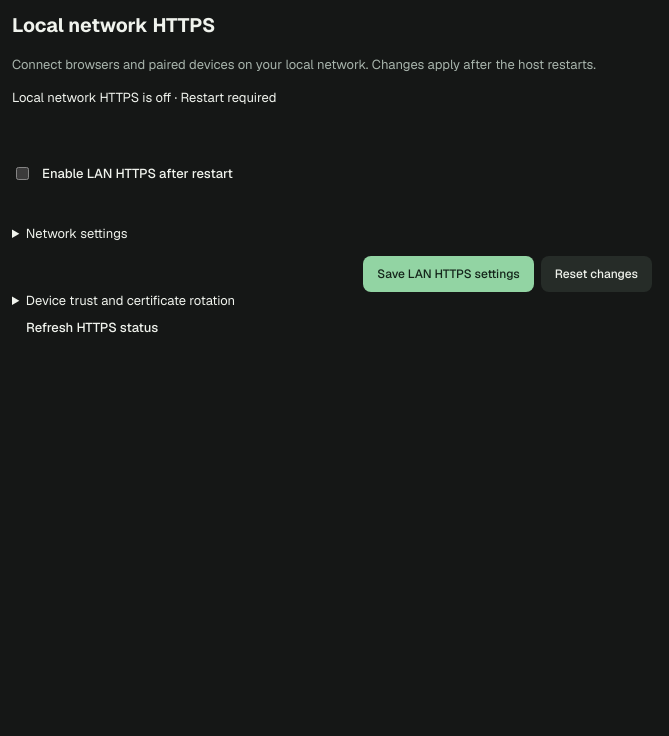
Test: saves only reviewed settings and acknowledges success while retaining explicit restart guidance
Click the checkbox labelled "Enable LAN HTTPS after restart" at (22, 173), box [16,167,29,180]
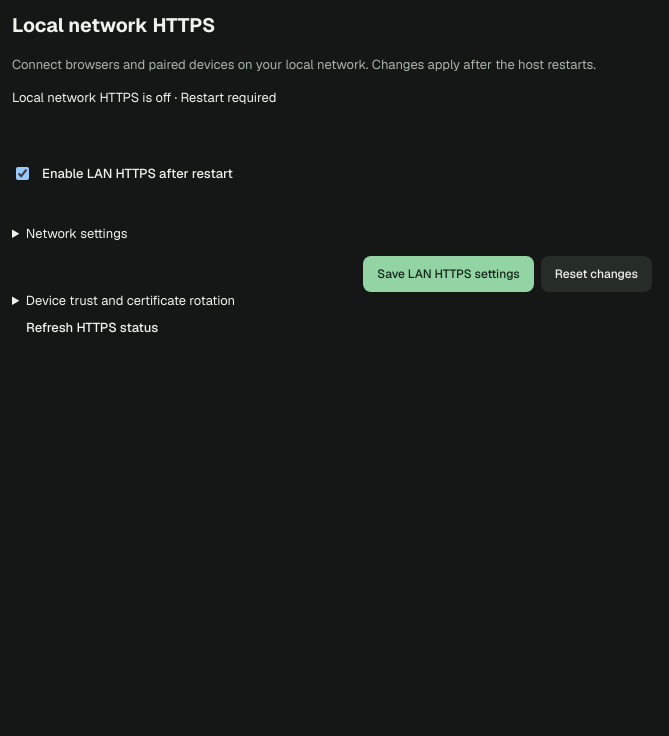
Click the heading "Network settings" at (77, 234), box [26,225,128,242]
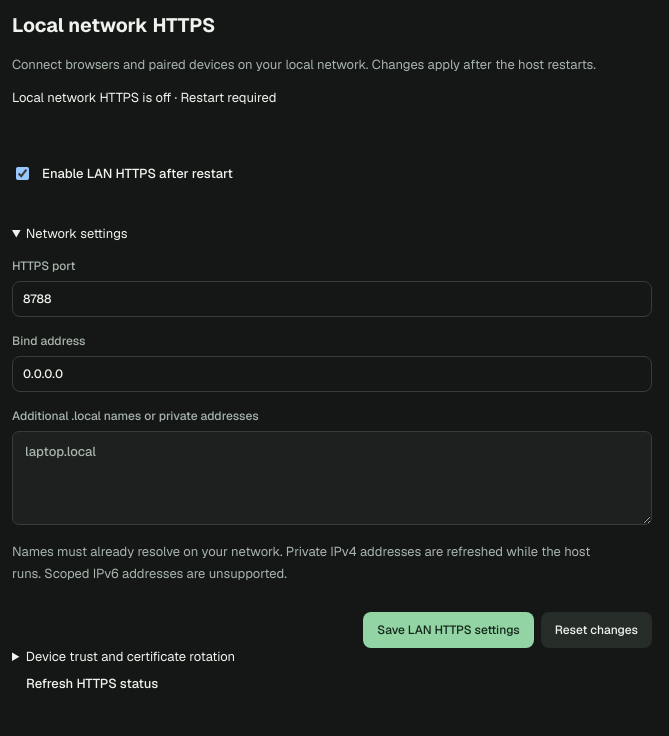
Type "workstation.local  192.168.64.11" into the text box labelled "Additional .local names or private addresses" at (332, 478), box [12,431,652,525]
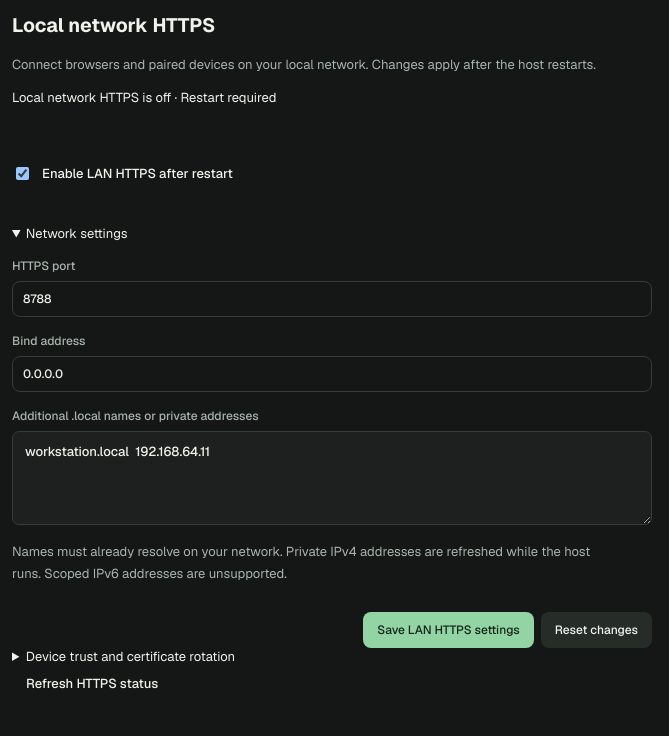
Click the button "Save LAN HTTPS settings" at (449, 630), box [363,612,534,648]
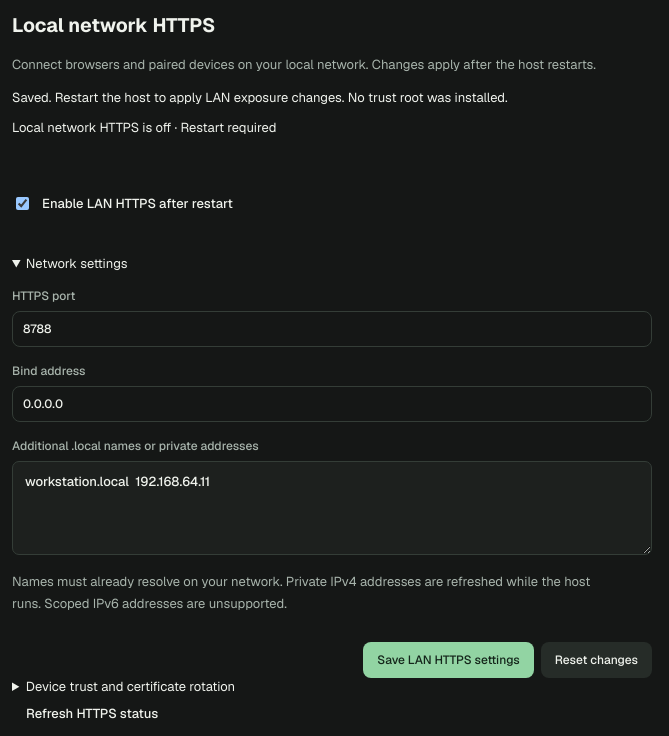
Check: the text "Saved. Restart the host to apply LAN exposure changes. No trust root was installed." is shown, box [12,89,508,106]
